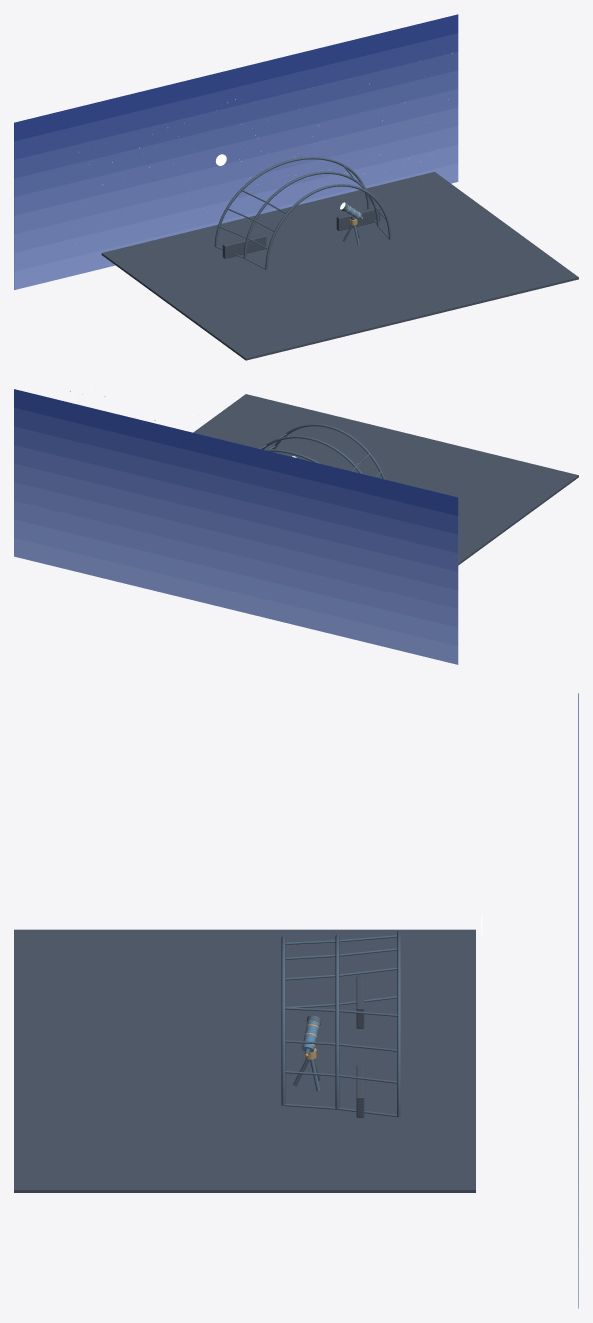
Rendered from VenueObservatory.fbx.
3 views of the same model, one above another, from view 1: azimuth 30°, elevation 25°; view 2: azimuth 150°, elevation 25°; view 3: azimuth 270°, elevation 25° (orthographic). The views are drawn at different scales.
Parts seen in each view (by area): view 1: VenueObservatory; view 2: VenueObservatory; view 3: VenueObservatory.
Part boxes in pixels (x1,y1,x2,y2): VenueObservatory: (14, 14, 578, 360); VenueObservatory: (14, 389, 578, 664); VenueObservatory: (14, 693, 578, 1308).
Size of the model in its own units: 32 by 22.01 by 11.53.
